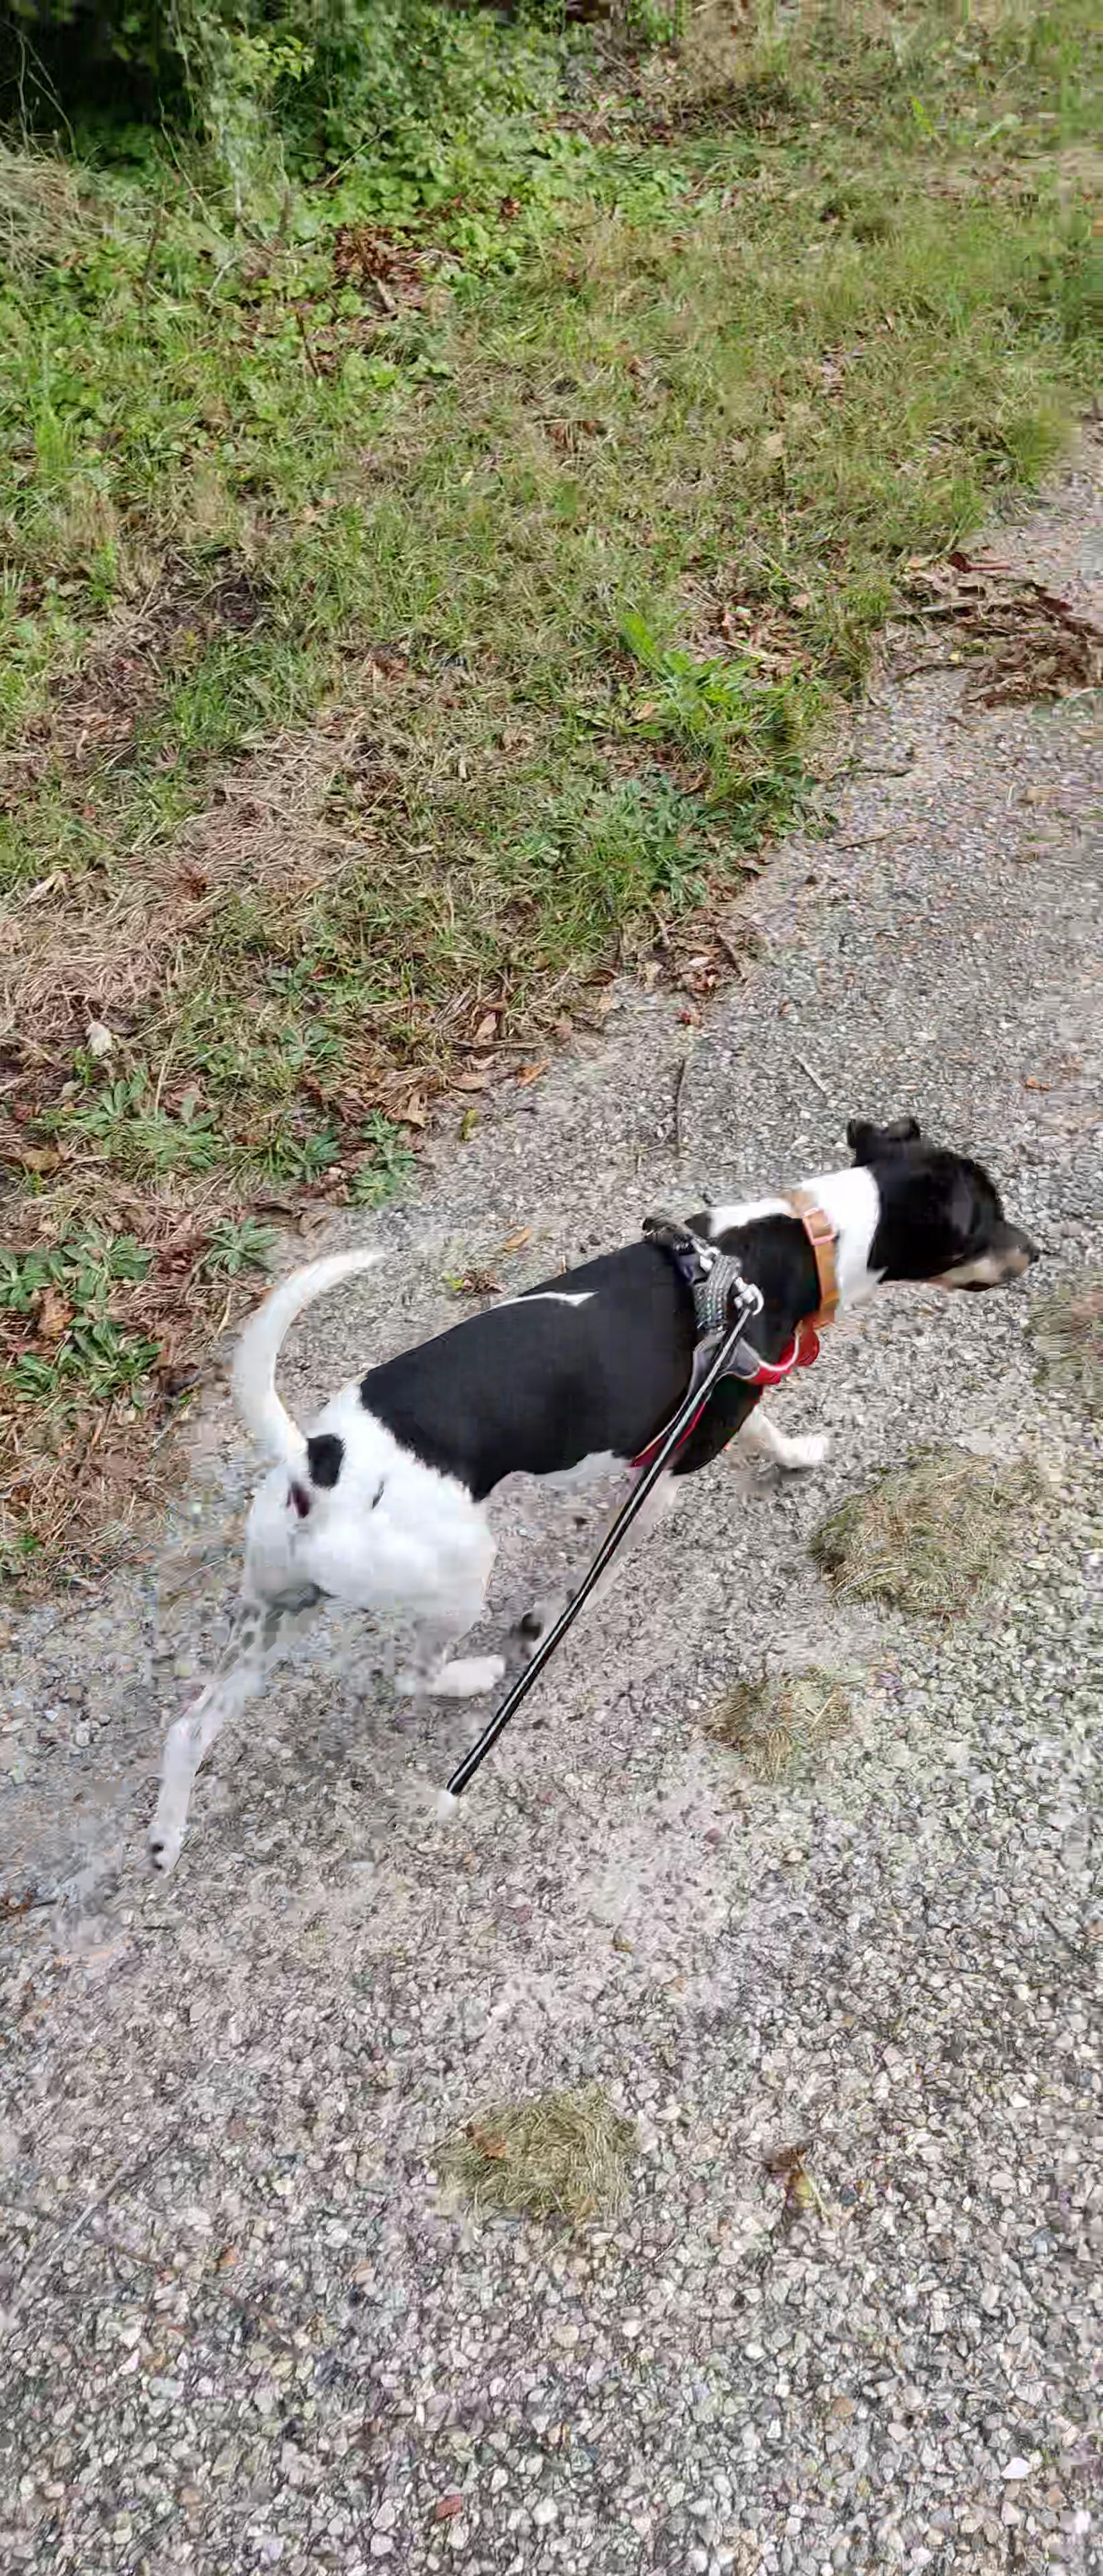Dog: (136, 1115, 1042, 1884)
